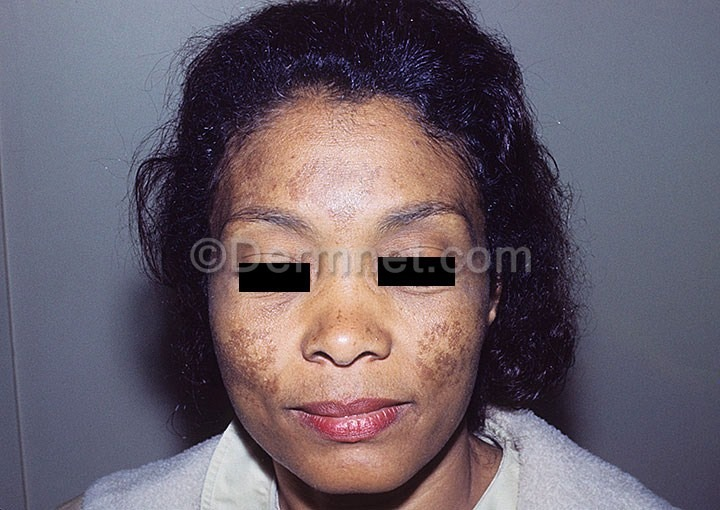Melasma: (212, 321, 285, 400), (411, 317, 475, 395), (300, 303, 396, 348), (237, 157, 326, 197), (334, 159, 375, 223)
